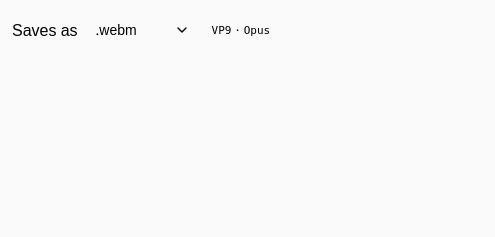
Test: SavesAsControl › changes the file type for this download only
What coordinates should you click on to do the following:
click the dropdown with test id "saves-as-trigger"
I would click on:
 (142, 30)
Its box is [86, 12, 198, 48].
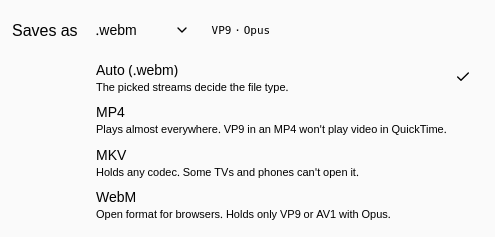
What coordinates should you click on to do the following:
click the option with test id "saves-as-option-mp4"
I would click on:
 (284, 119)
Its box is [90, 98, 479, 141].
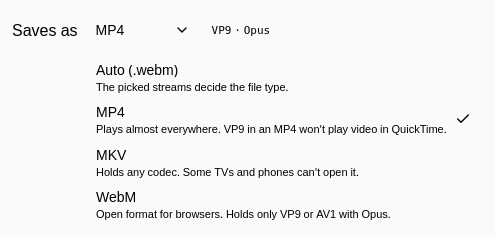
Now the dropdown with test id "saves-as-trigger" shows "MP4", box [86, 12, 198, 48]
